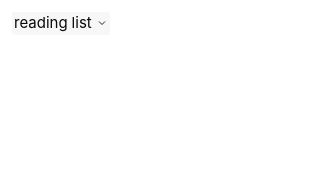
Test case: the header crumb menu renames and archives the page, and esc closes it
Later steps or results of the test are not shown.
Click the button "reading list" at (61, 23), box [12,12,110,34]
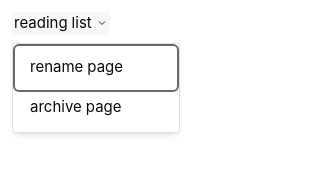
Press Escape in the button "rename page", box [17,48,175,88]
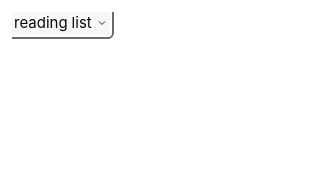
Check: the button "rename page" is gone
